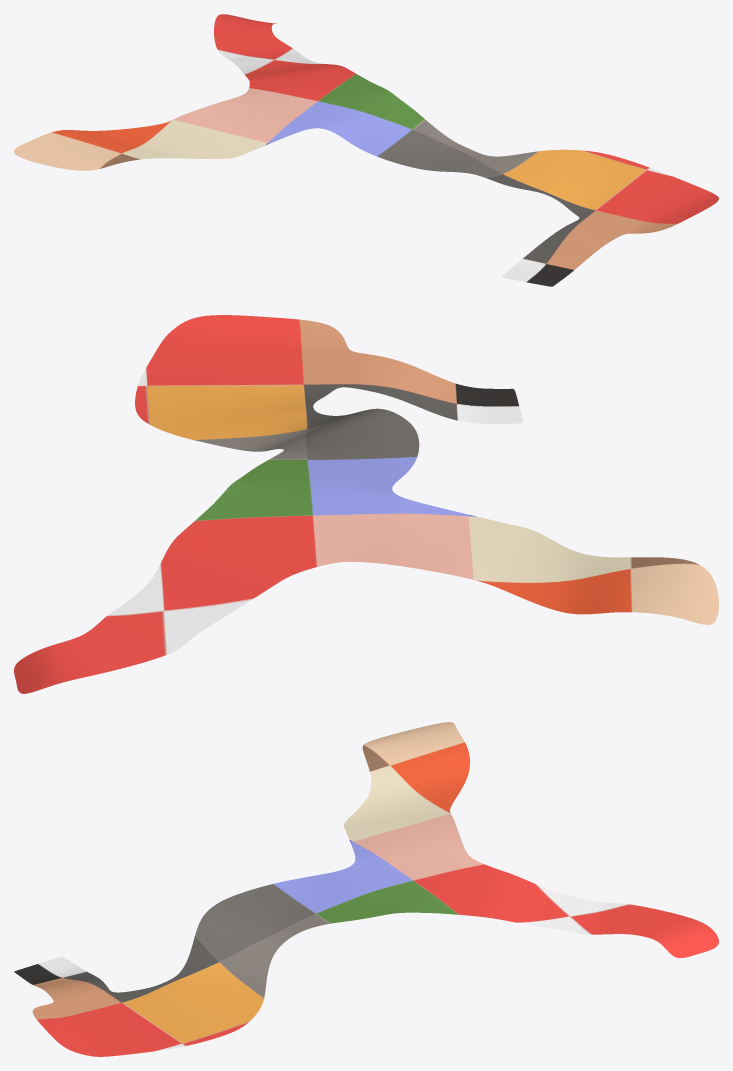
The model's file is lvl2grasswestsidepassage.fbx.
3 renders of one model, top to bottom at view 1: azimuth 30°, elevation 25°; view 2: azimuth 150°, elevation 25°; view 3: azimuth 270°, elevation 25°, orthographic. The views are drawn at different scales.
Visible parts, largest first — view 1: westsidepassagegrass; view 2: westsidepassagegrass; view 3: westsidepassagegrass.
Part boxes in pixels (x1,y1,x2,y2): westsidepassagegrass: [14, 14, 718, 286]; westsidepassagegrass: [14, 315, 718, 693]; westsidepassagegrass: [14, 722, 718, 1056].
Size of the model in its own units: 43.3 by 5.6 by 46.04.
